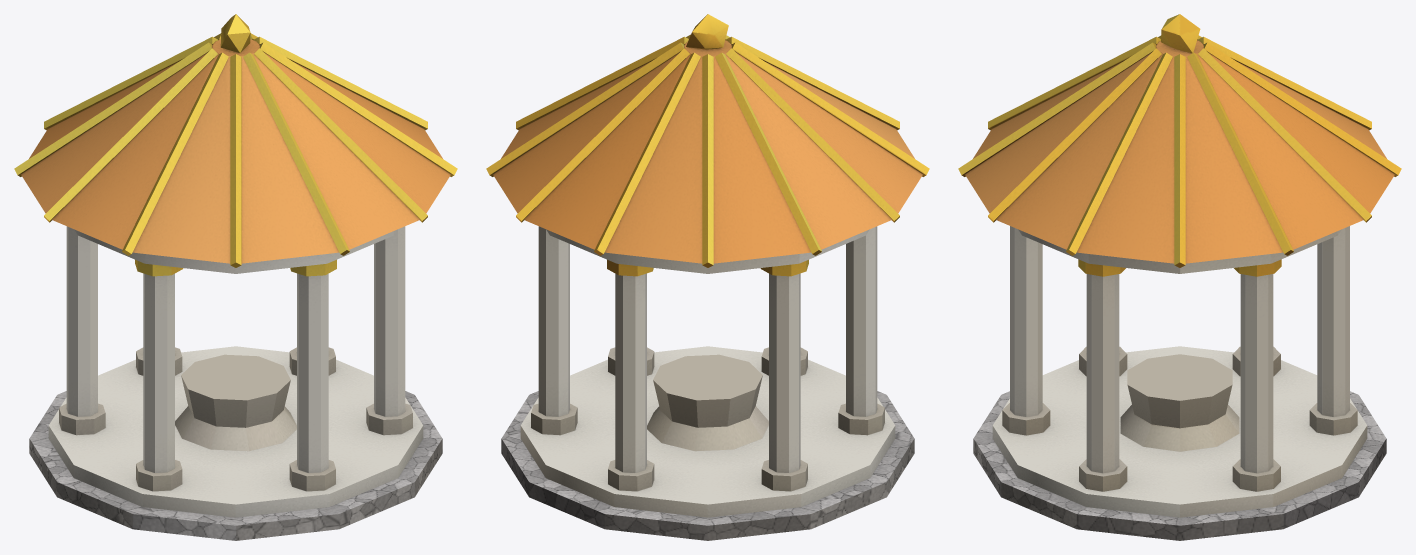
File: hub_shrine_safari.fbx
The picture shows the model from 3 angles, left to right: view 1: azimuth 30°, elevation 25°; view 2: azimuth 150°, elevation 25°; view 3: azimuth 270°, elevation 25°; orthographic projection.
Visible parts, largest first — view 1: hub_shrine_safari_body; view 2: hub_shrine_safari_body; view 3: hub_shrine_safari_body.
Boxes of the visible parts, left/top/right/bottom form: hub_shrine_safari_body: left=14, top=14, right=457, bottom=540; hub_shrine_safari_body: left=486, top=14, right=929, bottom=540; hub_shrine_safari_body: left=958, top=14, right=1401, bottom=540.
Bounding box in the file's own units: 924 × 1010 × 924.
Materials: 1 (1 with a texture image).
